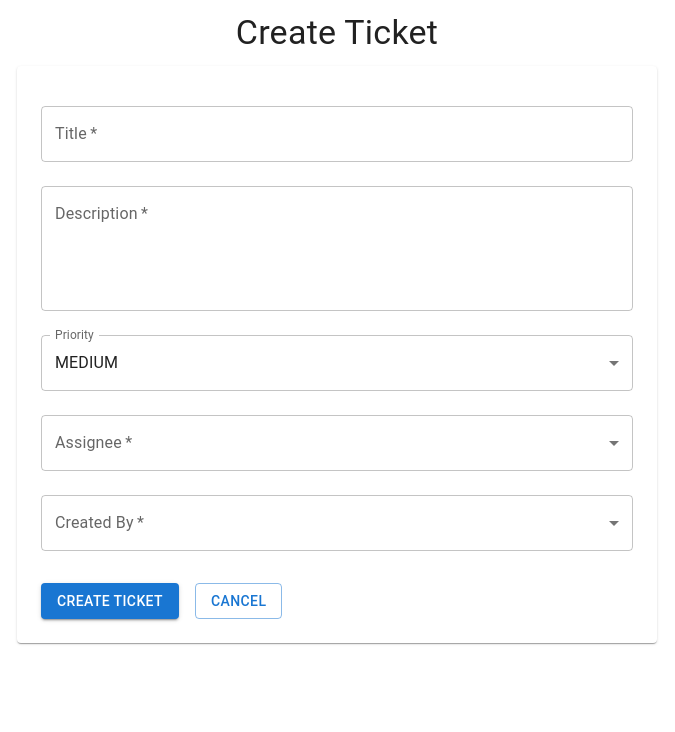
Test: CreateTicketPage › shows client-side validation errors when required fields are missing
The image size is (675, 732).
Expected: the heading "Create Ticket" is shown, [236,12,438,54]
Click the button "Create Ticket" at (110, 601), box [41,583,179,619]
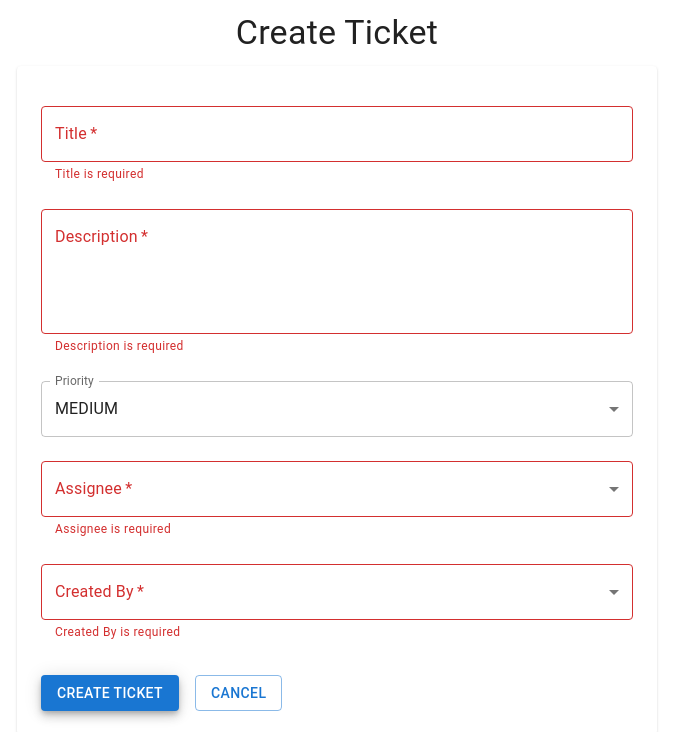
Result: the text "Title is required" is shown at [55,167,144,181]
Result: the text "Description is required" is shown at [55,339,184,353]
Result: the text "Assignee is required" is shown at [55,522,171,536]
